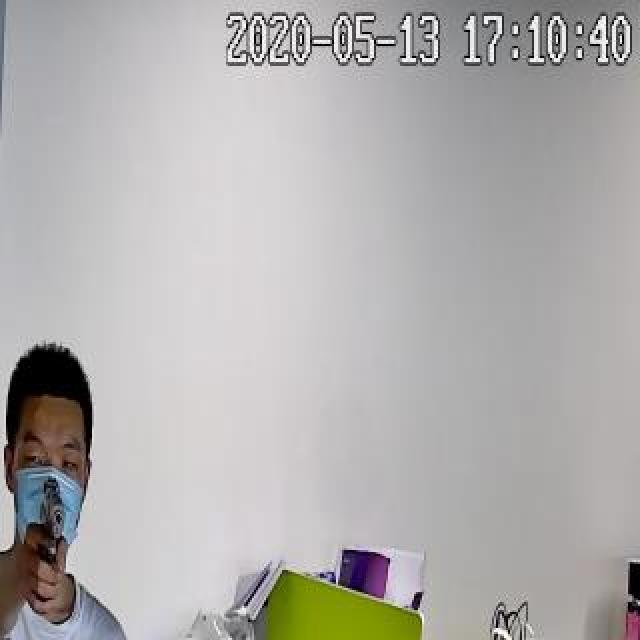Guns: (22, 462, 80, 600)
